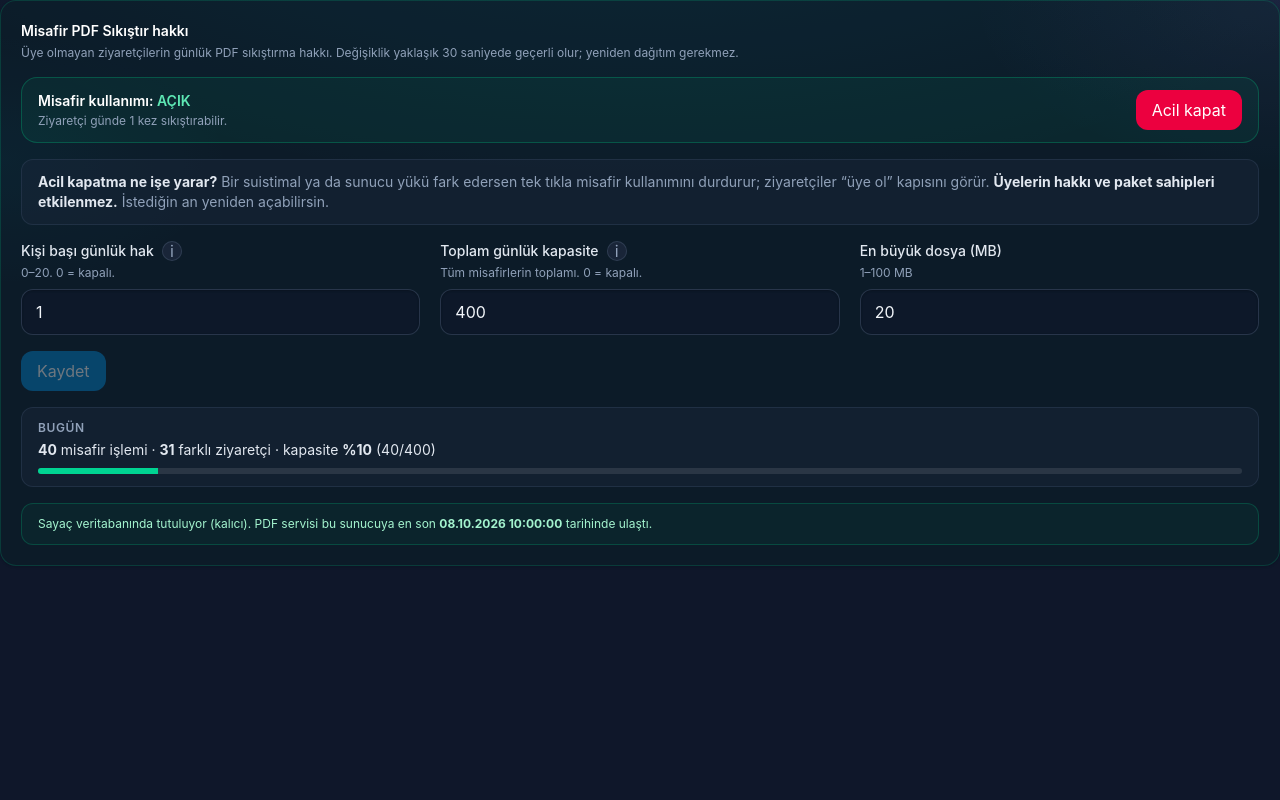
it: GuestCompressSettings — yönetim paneli › sunucu hata verirse anlaşılır mesaj gösterir
The image size is (1280, 800).
Step 1. Click the button "Acil kapat" → coordinates (1189, 110), box [1136,90,1242,130]
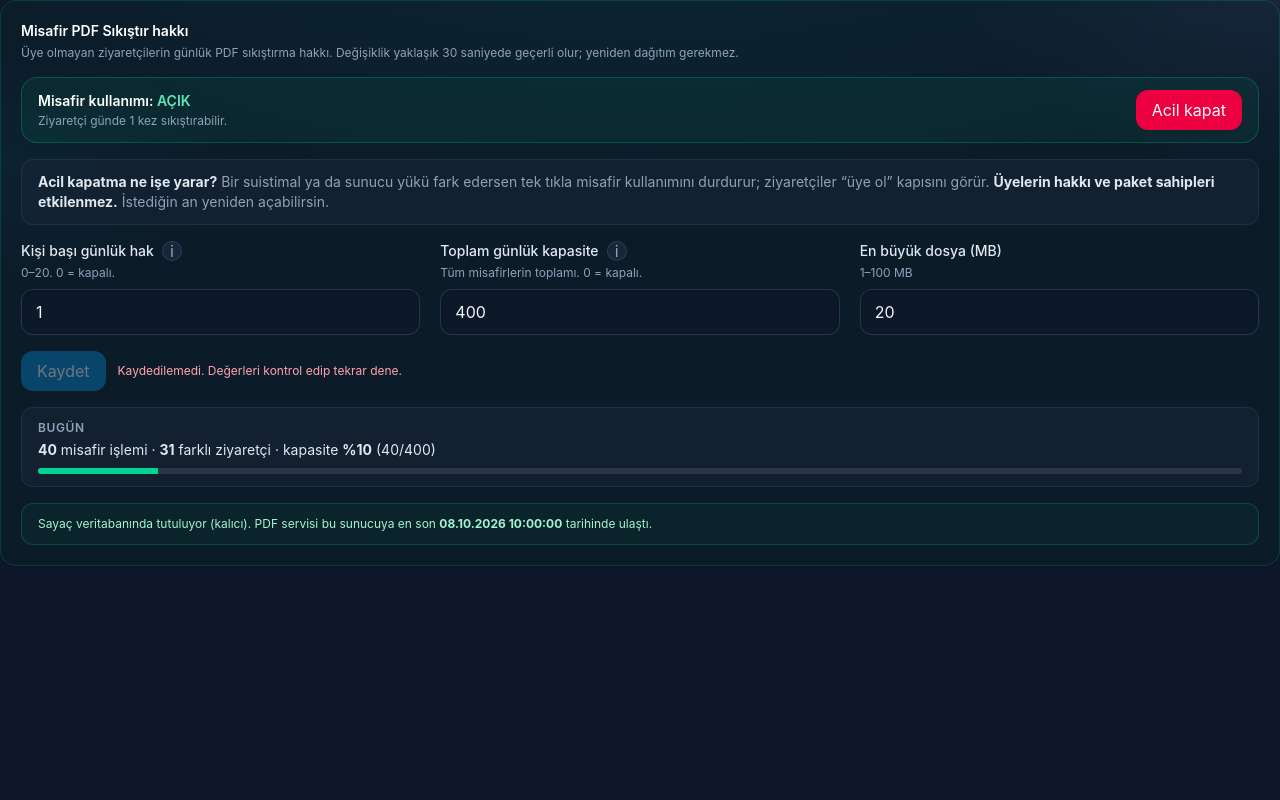
Check: the text "Kaydedilemedi. Değerleri kontrol edip tekrar dene." is shown, box [118,363,402,379]
